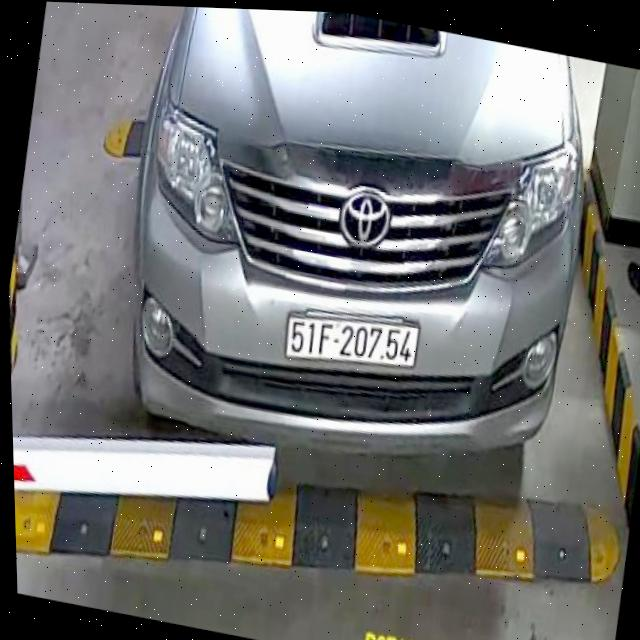car: (90, 3, 623, 519)
plate: (279, 299, 432, 386)
